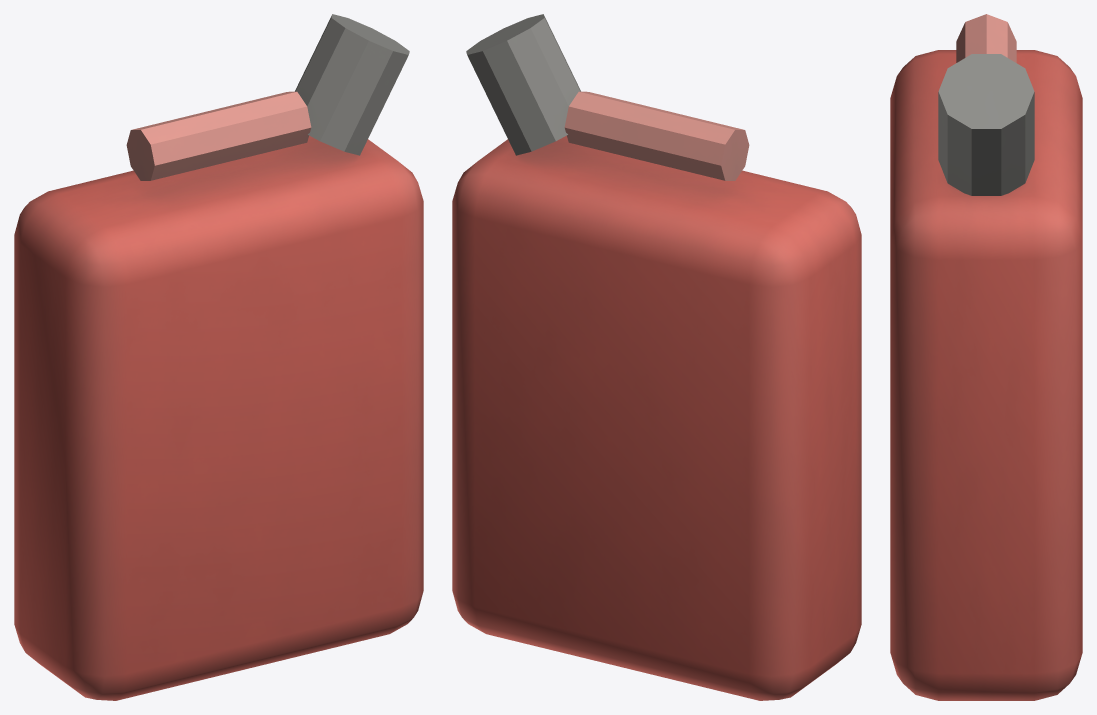
File: JerryCan.fbx
3 renders of one model, left to right at view 1: azimuth 30°, elevation 25°; view 2: azimuth 150°, elevation 25°; view 3: azimuth 270°, elevation 25°, orthographic. The views are drawn at different scales.
Visible parts, largest first — view 1: JerryCan; view 2: JerryCan; view 3: JerryCan.
Part boxes in pixels (x1,y1,x2,y2): JerryCan: (14, 14, 423, 700); JerryCan: (452, 14, 861, 700); JerryCan: (890, 14, 1082, 700).
Size of the model in its own units: 36.79 by 58.23 by 16.
